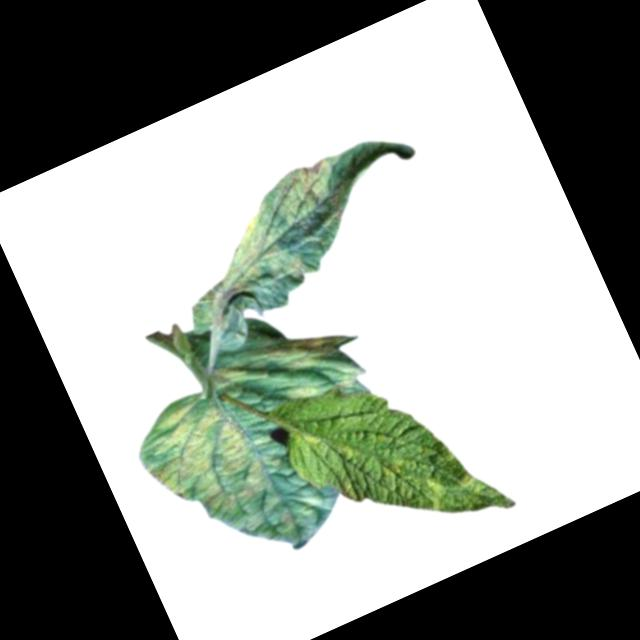Leaf_Mold: (159, 150, 383, 334), (122, 379, 295, 588), (255, 313, 370, 415), (415, 458, 490, 522)
